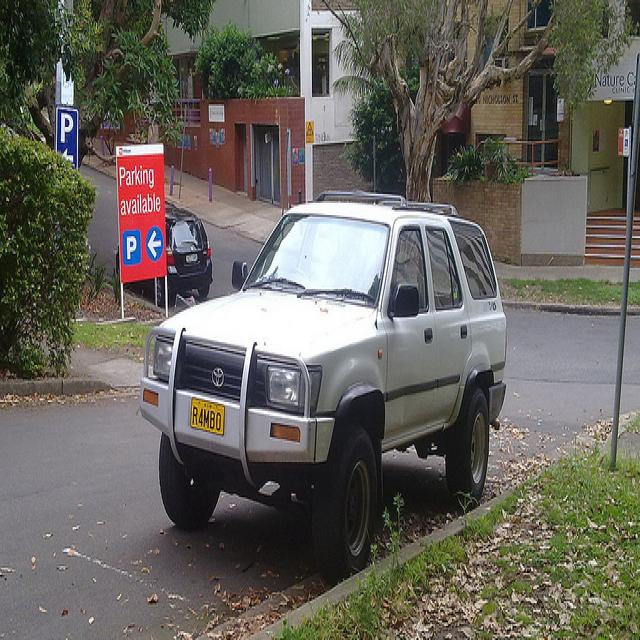Vehicle: (139, 189, 507, 592), (138, 188, 508, 585), (112, 197, 213, 309)
